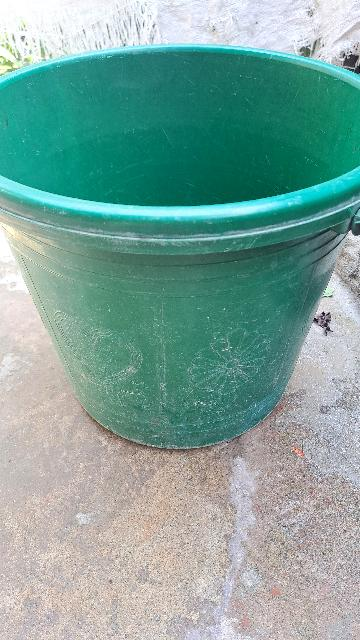hardplastic: (0, 71, 360, 424)
